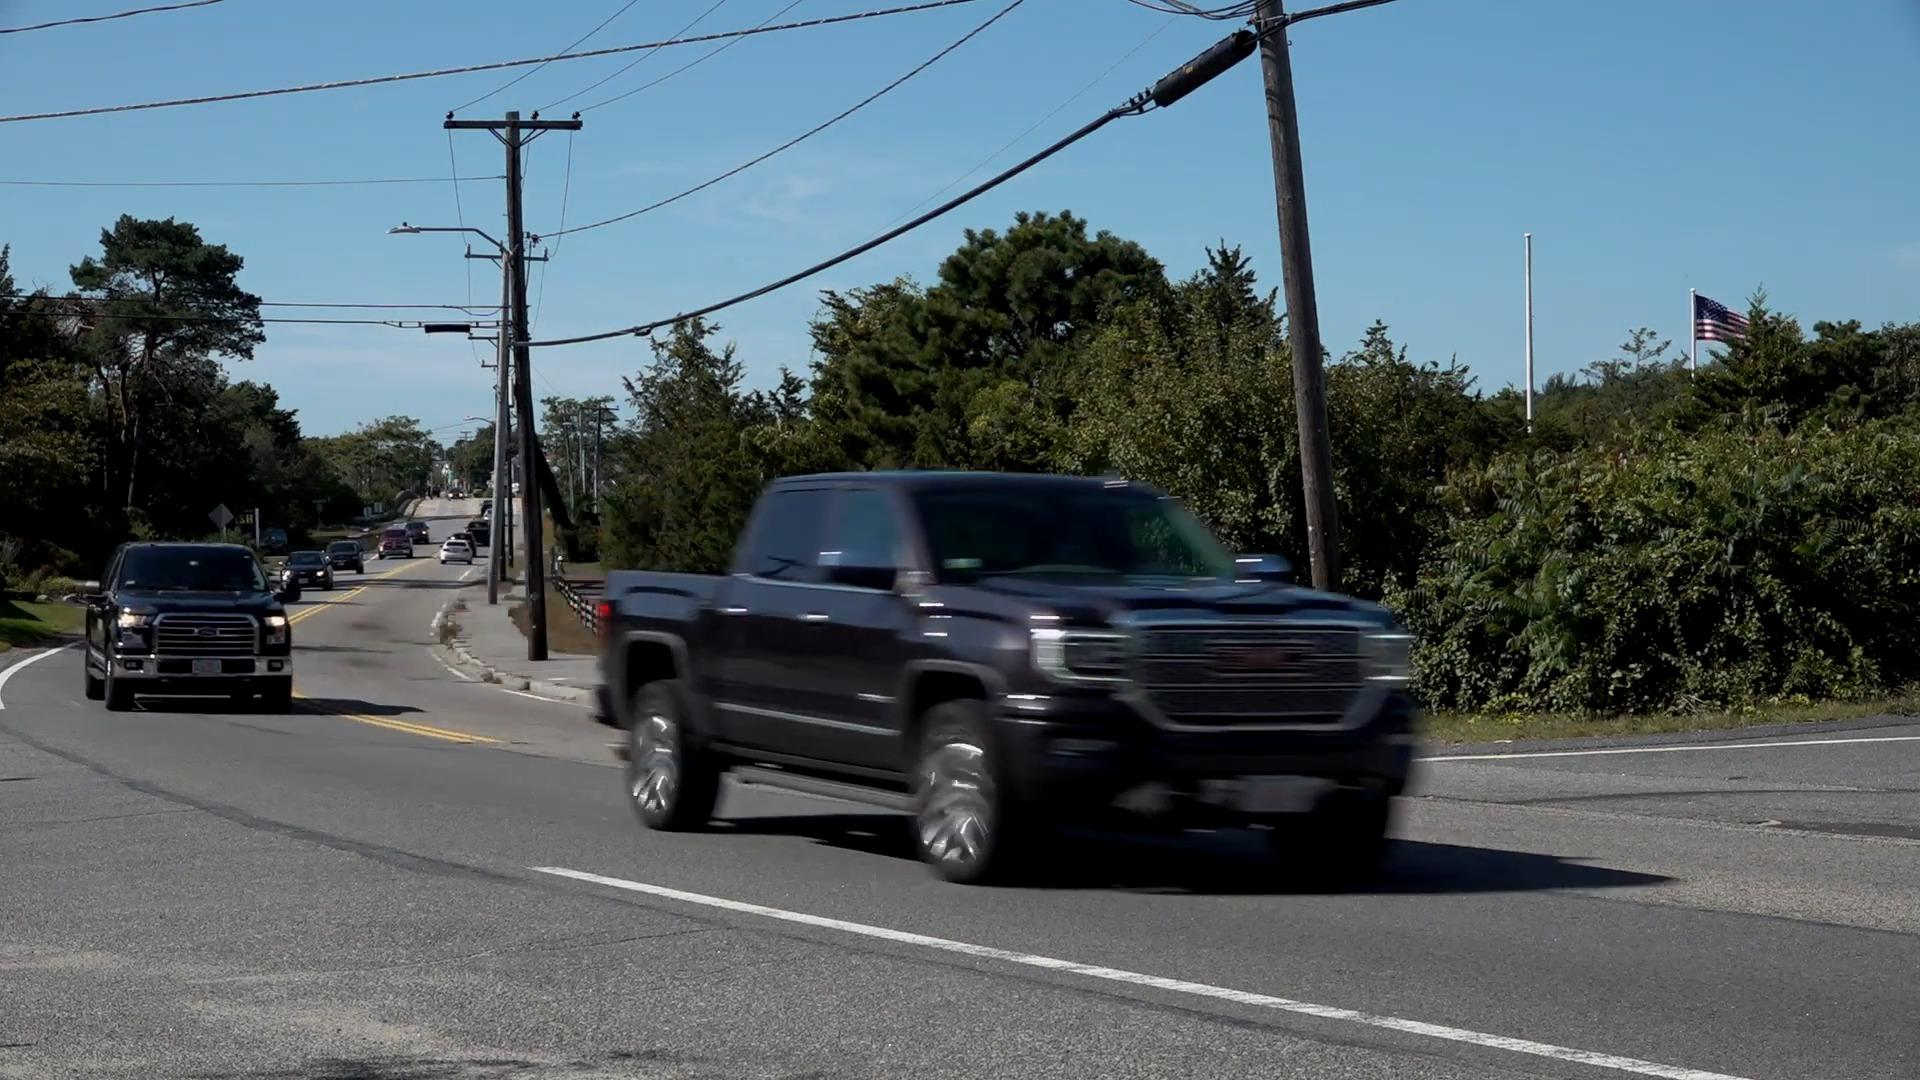pickup: (596, 471, 1423, 880), (90, 545, 295, 707)
